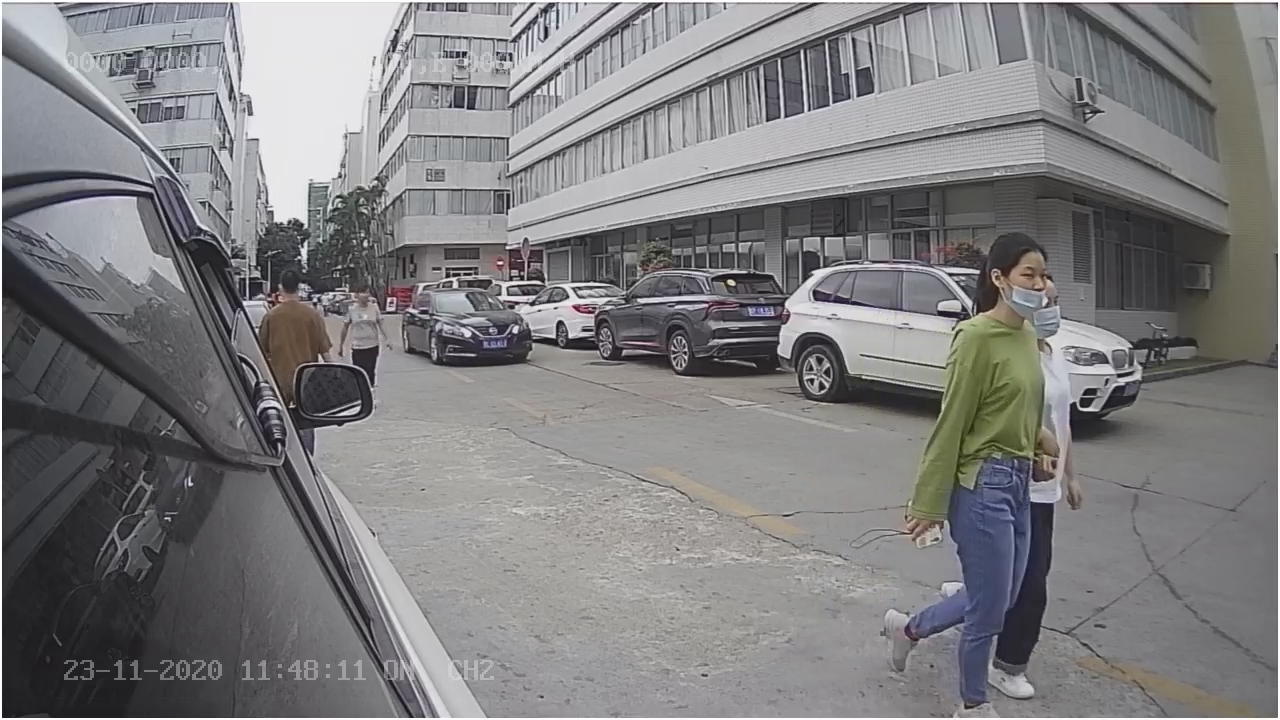person: (879, 207, 1061, 714)
